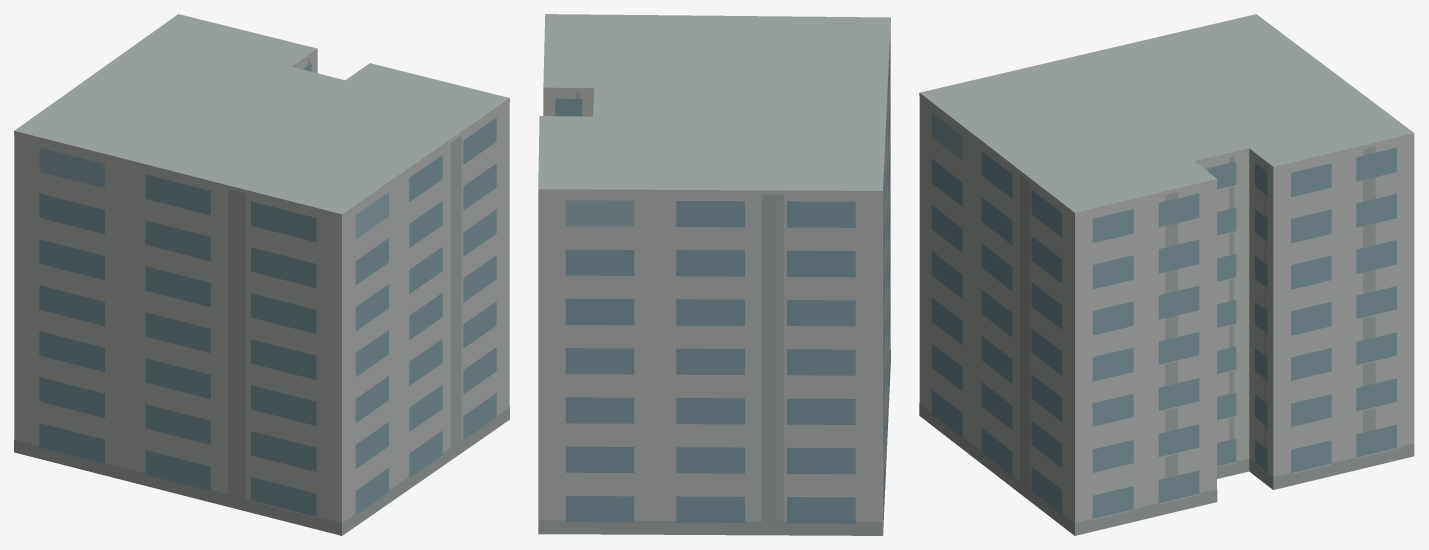
Rendered from survey-upis-33017580.glb.
The picture shows the model from 3 angles, left to right: view 1: azimuth 30°, elevation 25°; view 2: azimuth 150°, elevation 25°; view 3: azimuth 270°, elevation 25°; orthographic projection. The views are drawn at different scales.
Visible parts, largest first — view 1: survey-upis-33017580.tmp; view 2: survey-upis-33017580.tmp; view 3: survey-upis-33017580.tmp.
Boxes of the visible parts, x1,y1,x2,y2 form: survey-upis-33017580.tmp: [14, 14, 509, 535]; survey-upis-33017580.tmp: [538, 14, 890, 535]; survey-upis-33017580.tmp: [919, 14, 1414, 535].
Bounding box in the file's own units: 27.18 × 20.6 × 28.6.
